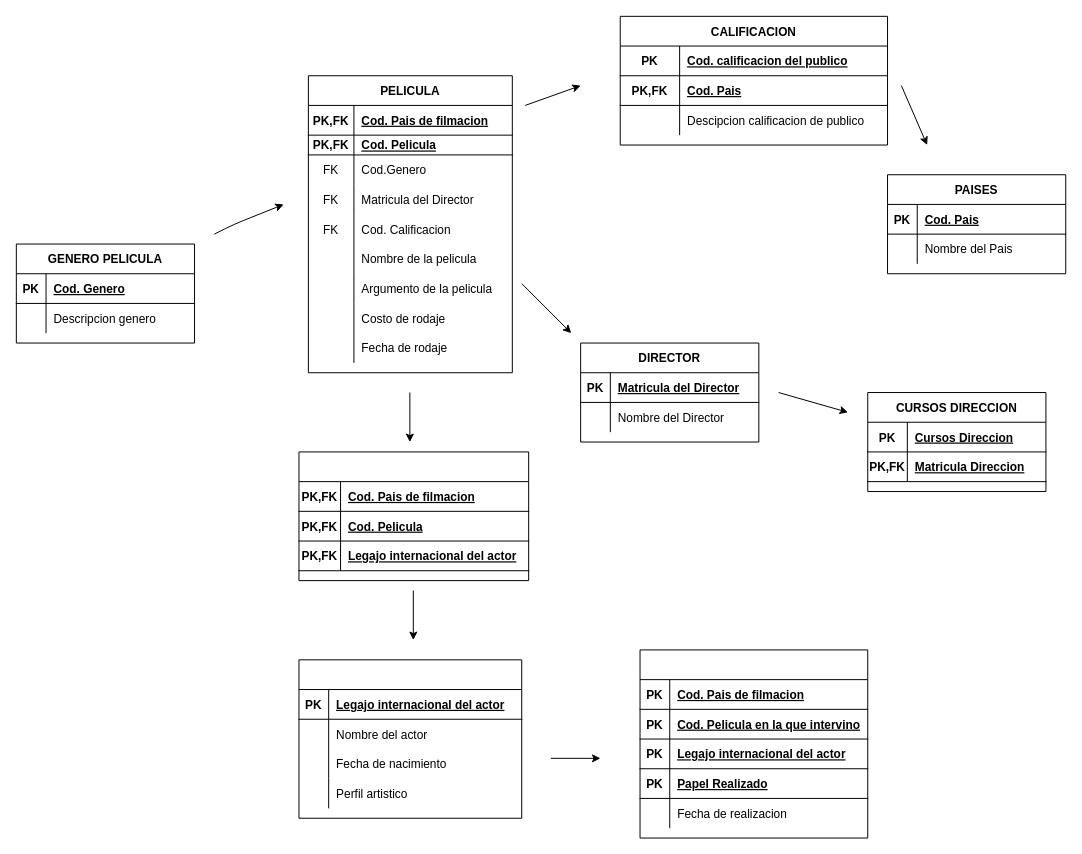
Image size: 1082x854. Some labels were removed from this diagram. Each missing label, with the box of its shape:
ACTORES: (298, 659, 522, 818)
ACTORES X PELICULA: (298, 451, 529, 581)
ANTECEDENTES: (639, 649, 868, 838)
